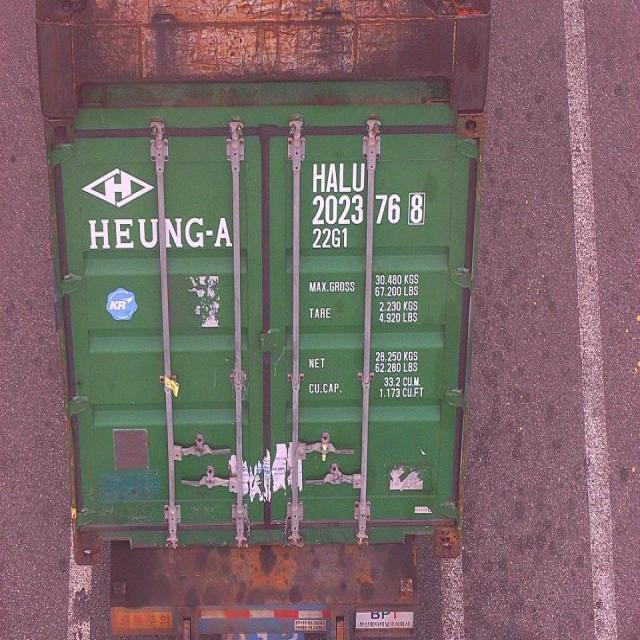ISO: (312, 227, 350, 250)
container_number: (310, 164, 424, 222)
